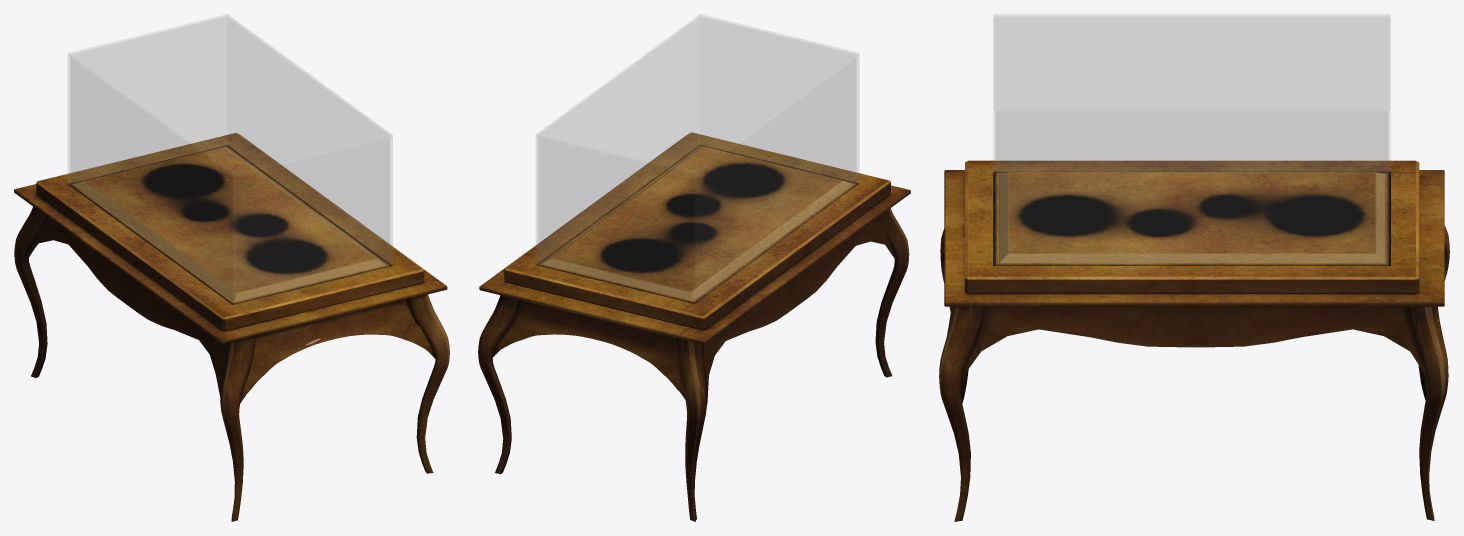
File: Museum_Displaytable_03.FBX
3 views of the same model, side by side, from view 1: azimuth 30°, elevation 25°; view 2: azimuth 150°, elevation 25°; view 3: azimuth 270°, elevation 25° (orthographic). The views are drawn at different scales.
Visible parts, largest first — view 1: Museum_Displaytable_03; view 2: Museum_Displaytable_03; view 3: Museum_Displaytable_03.
Boxes of the visible parts, x1,y1,x2,y2 form: Museum_Displaytable_03: (14, 14, 449, 521); Museum_Displaytable_03: (478, 14, 910, 521); Museum_Displaytable_03: (939, 14, 1449, 521).
Bounding box in the file's own units: 837 × 1166 × 1352.
2 materials, 1 textured.
